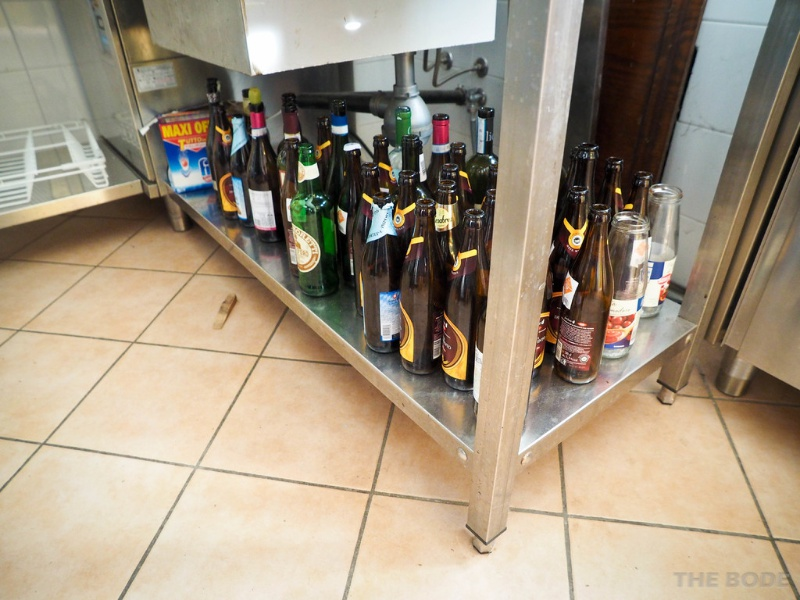wine: (196, 63, 693, 406)
